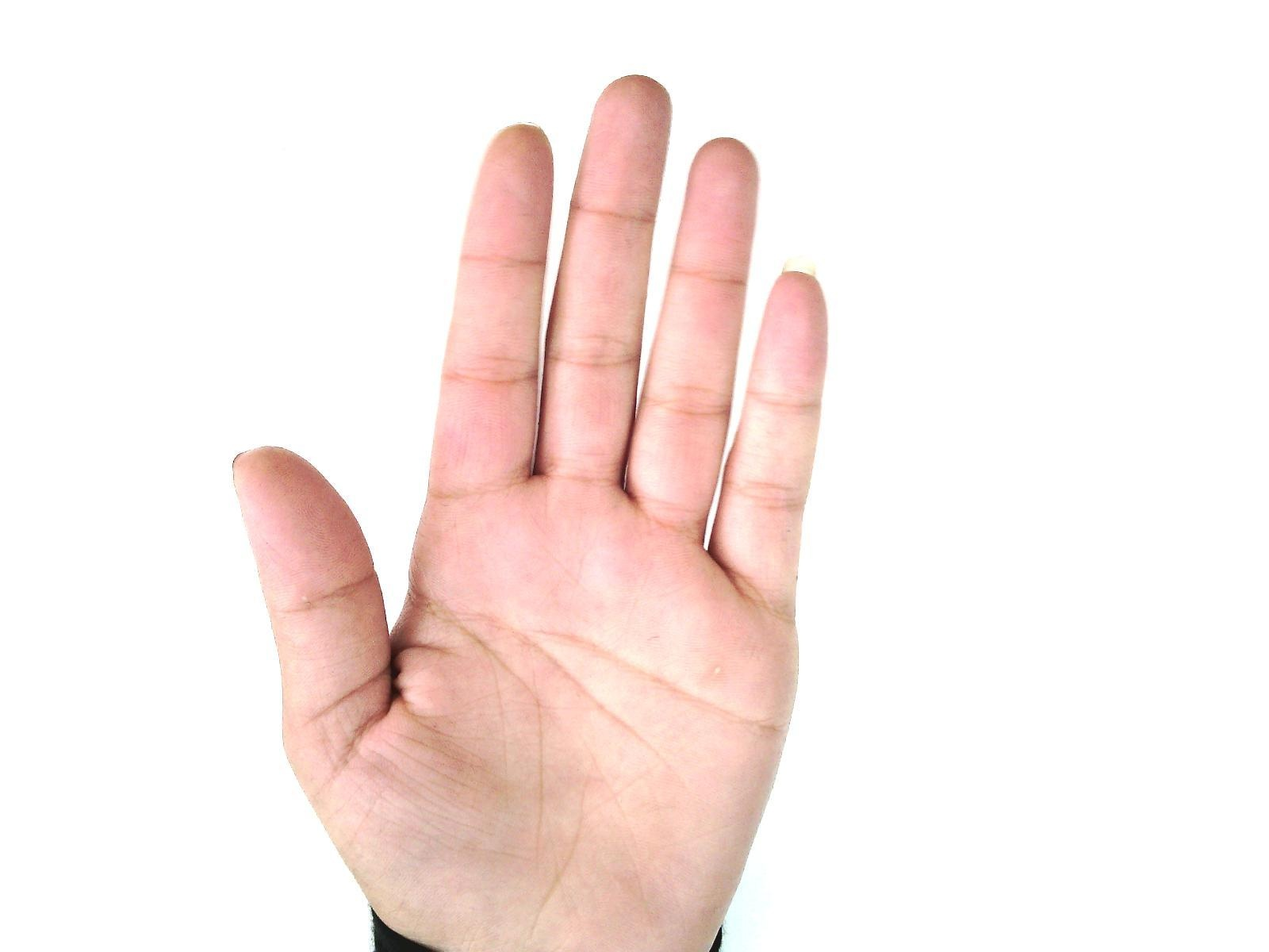open_palm: (230, 73, 832, 951)
